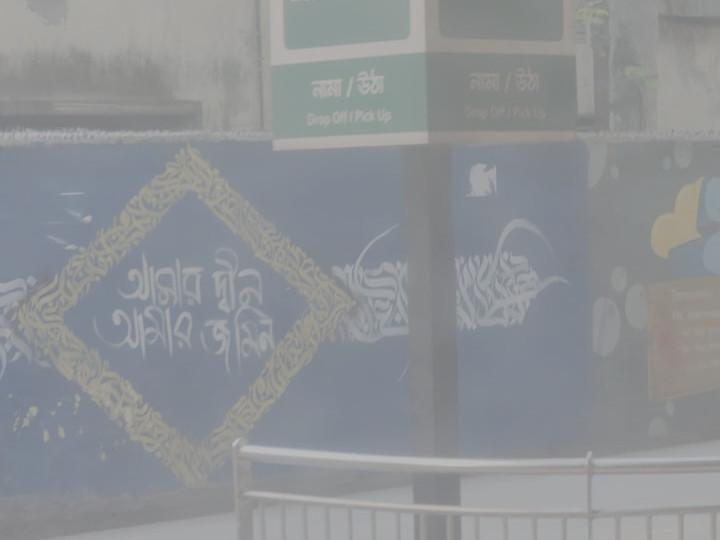Metro Dorp Up Pick up: (266, 0, 588, 152)
